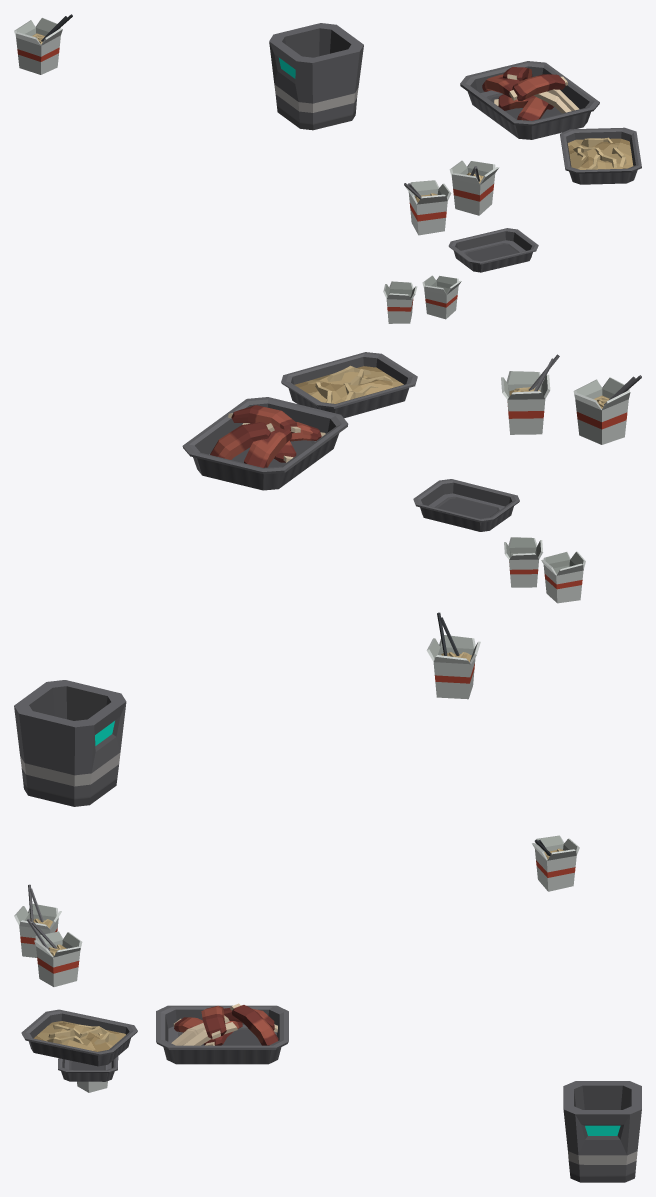
The model's file is SM_Veh_Food_Truck_01_Food_Insert_01.fbx.
3 views of the same model, one above another, from view 1: azimuth 30°, elevation 25°; view 2: azimuth 150°, elevation 25°; view 3: azimuth 270°, elevation 25° (orthographic). The views are drawn at different scales.
Parts seen in each view (by area): view 1: SM_Veh_Food_Truck_01_Food_Insert_01; view 2: SM_Veh_Food_Truck_01_Food_Insert_01; view 3: SM_Veh_Food_Truck_01_Food_Insert_01.
Boxes of the visible parts, x1,y1,x2,y2 form: SM_Veh_Food_Truck_01_Food_Insert_01: (14, 14, 641, 323); SM_Veh_Food_Truck_01_Food_Insert_01: (14, 352, 641, 806); SM_Veh_Food_Truck_01_Food_Insert_01: (14, 835, 641, 1182).
Bounding box in the file's own units: 259 × 121 × 358.
